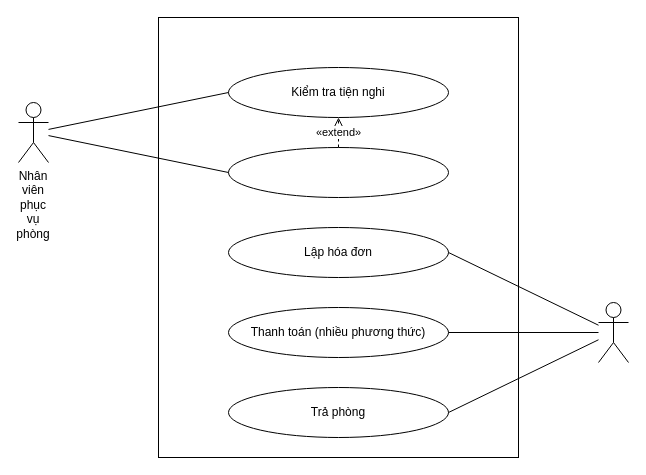
The diagram is 646 pixels wide and 475 high, and some of its shapes have lost their labels. The box of each missing label's shape, as (x1, y1, x2, y2) in pixels:
Lập phiếu đền bù: (228, 146, 448, 198)
Nhân viên thanh toán: (598, 302, 628, 362)
Trả phòng - thanh toán: (158, 16, 518, 458)
